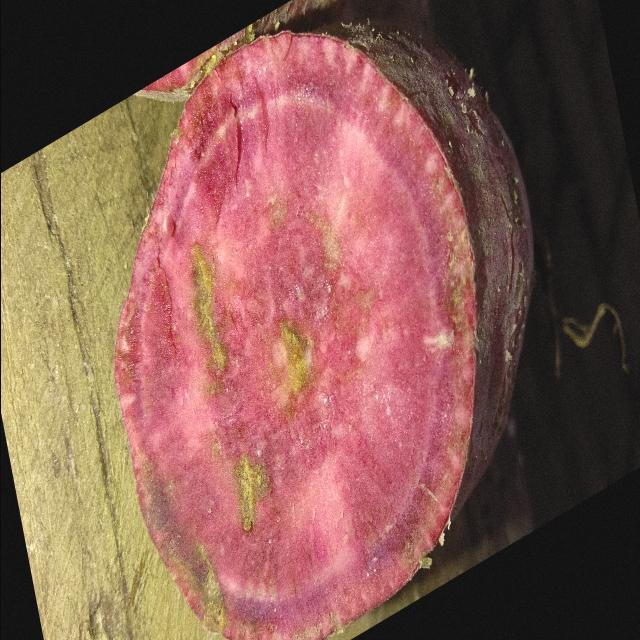Sick Sweet Potato_Tuber Rot: (114, 33, 474, 638)
